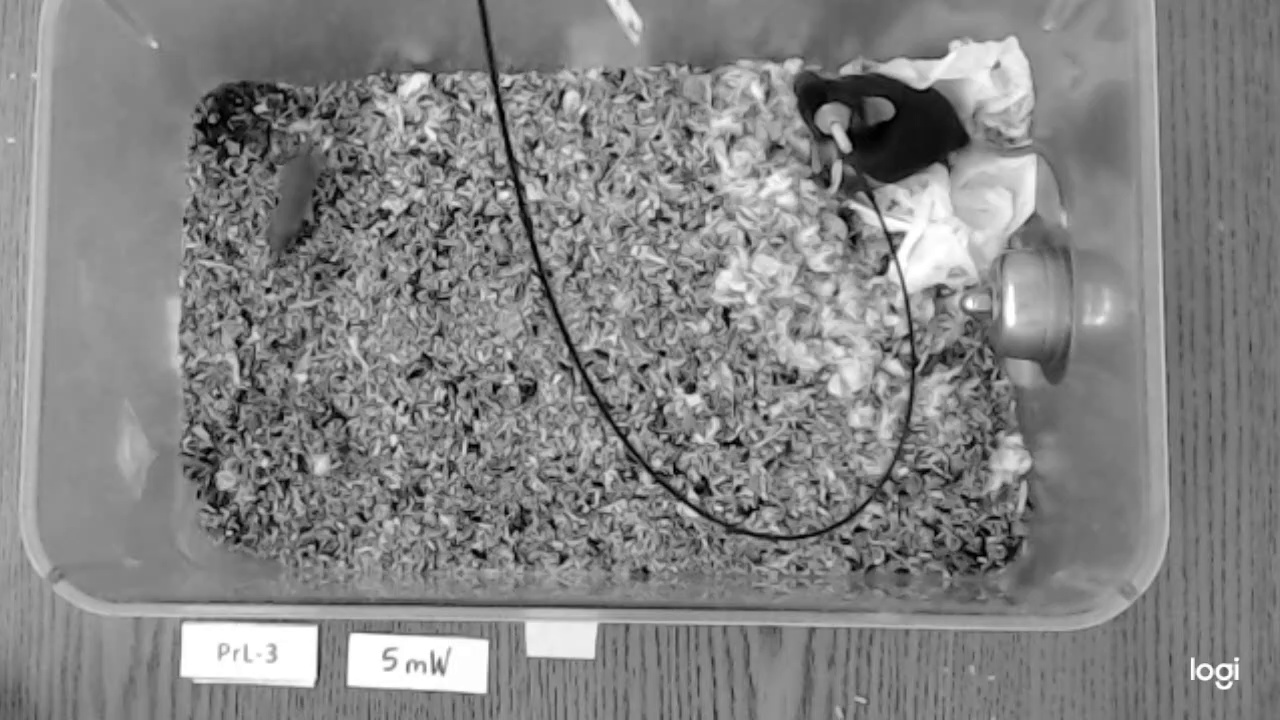child-mice: (260, 155, 321, 252)
